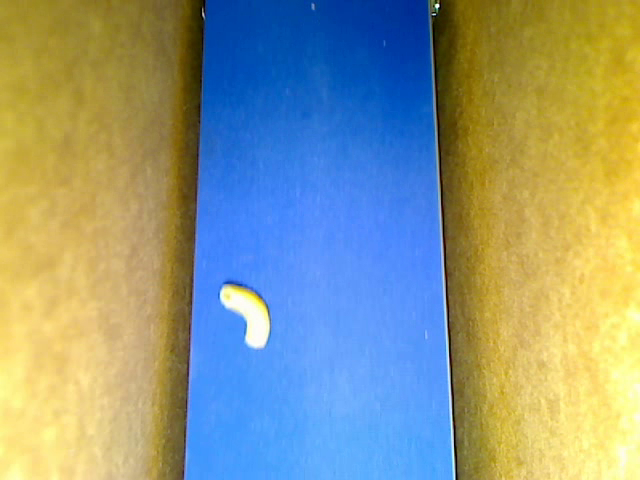elbow: (219, 283, 270, 349)
